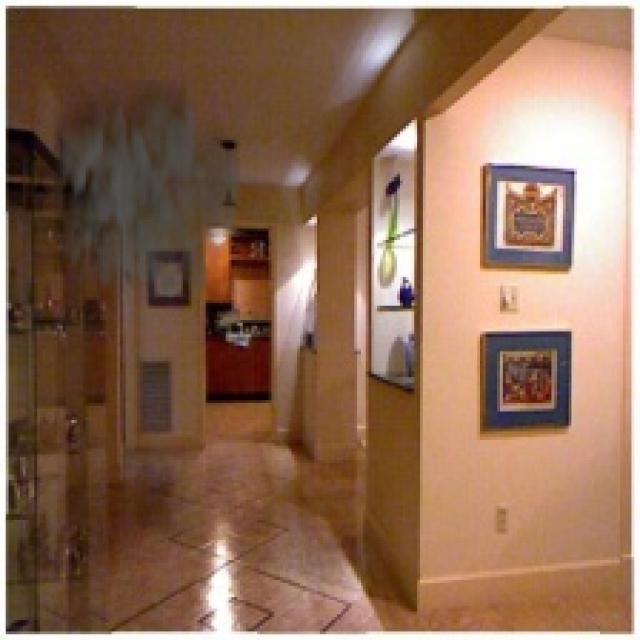Smoke: (40, 80, 240, 329)
